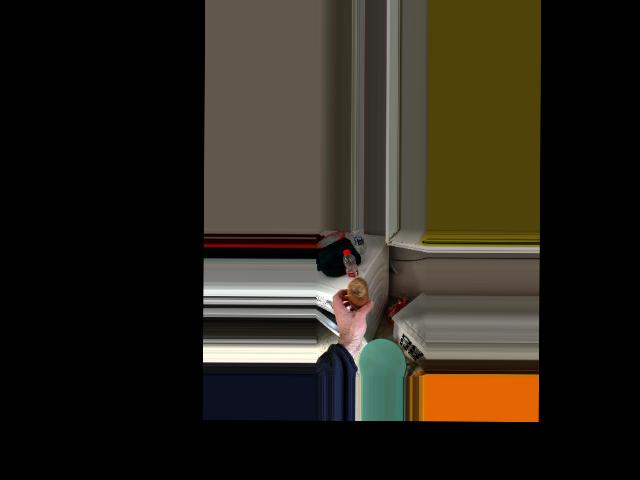sweet_potato: (342, 278, 371, 314)
